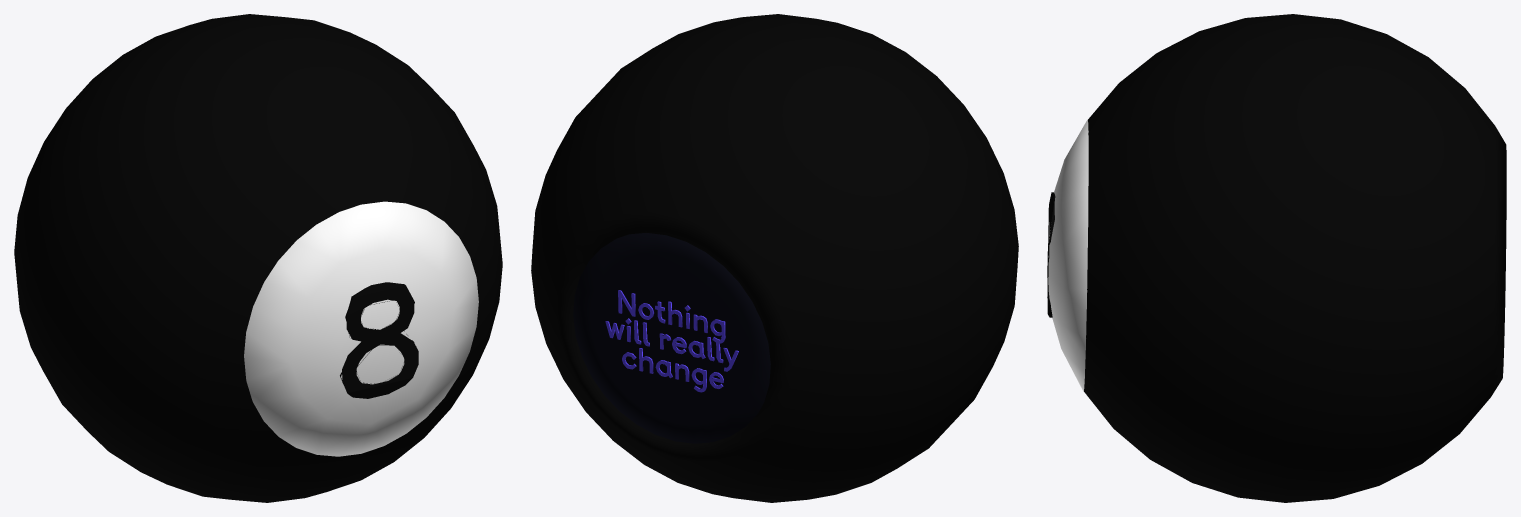
Rendered from MAGIC 8-Nothing will really change .glb.
The picture shows the model from 3 angles, left to right: view 1: azimuth 30°, elevation 25°; view 2: azimuth 150°, elevation 25°; view 3: azimuth 270°, elevation 25°; orthographic projection.
Parts seen in each view (by area): view 1: BOULE, BLANC; view 2: BOULE, ECRAN, Text; view 3: BOULE, BLANC.
Boxes of the visible parts, bbox=[...] form: BOULE: bbox=[14, 14, 502, 502]; BLANC: bbox=[244, 201, 478, 456]; BOULE: bbox=[531, 14, 1018, 502]; ECRAN: bbox=[573, 233, 770, 443]; Text: bbox=[605, 290, 738, 392]; BOULE: bbox=[1047, 14, 1506, 502]; BLANC: bbox=[1047, 119, 1088, 391].
Bounding box in the file's own units: 2 × 2 × 1.88.
